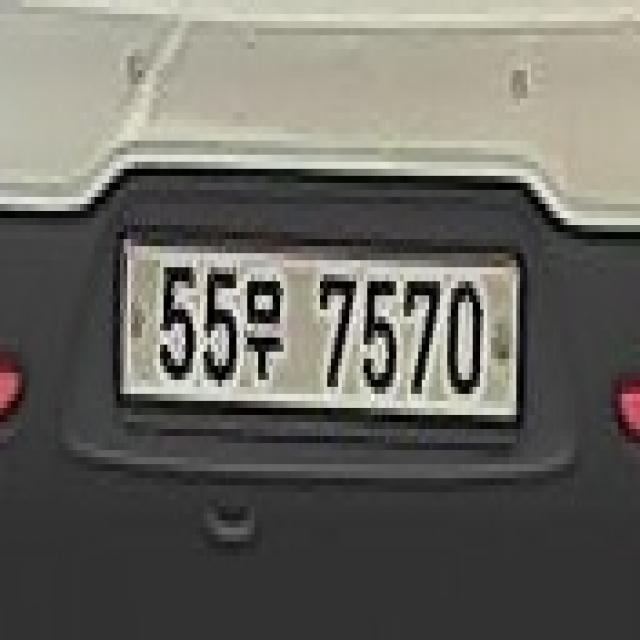0: (448, 258, 487, 398)
5: (363, 254, 401, 394), (157, 255, 198, 383), (203, 252, 241, 386)
7: (316, 255, 358, 395), (404, 254, 442, 394)
license_plate: (116, 210, 537, 454)
mu: (245, 254, 285, 388)
